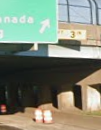3: (66, 29, 77, 40)
overheadsign: (40, 28, 88, 39)
